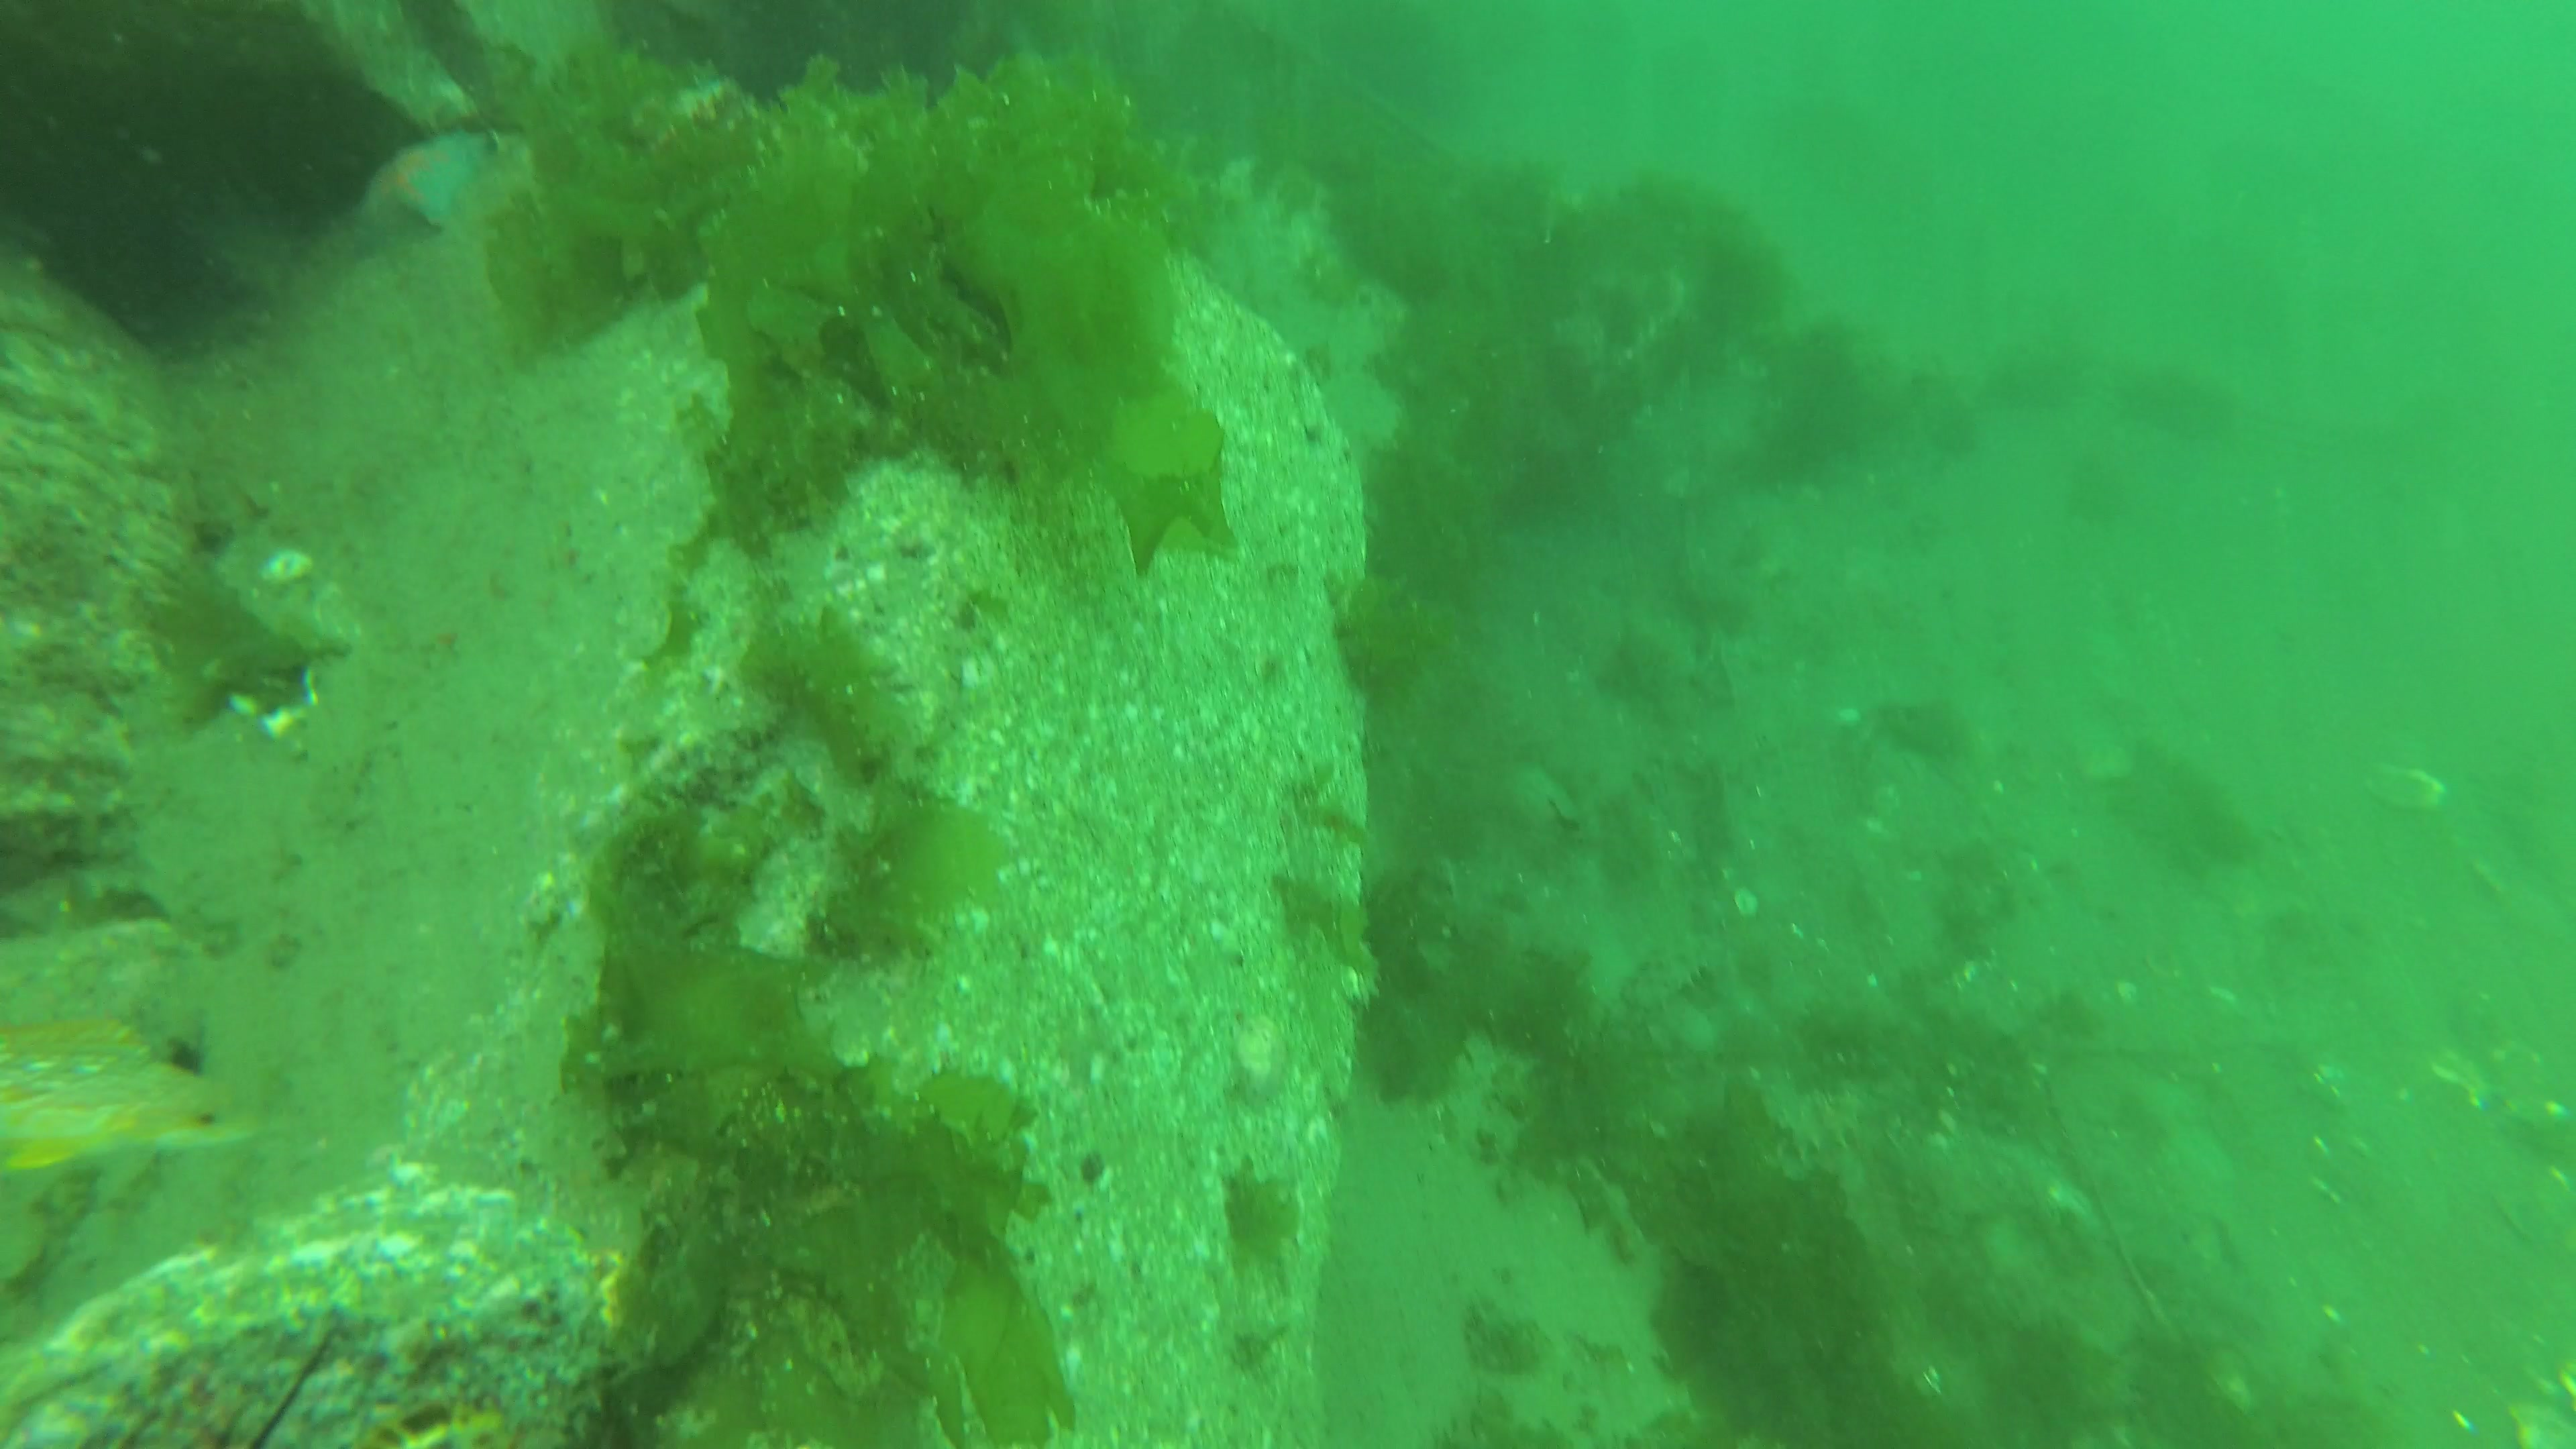holothurian: (1757, 1086, 1877, 1168), (1619, 932, 1721, 1023)
starfish: (341, 126, 502, 258)
